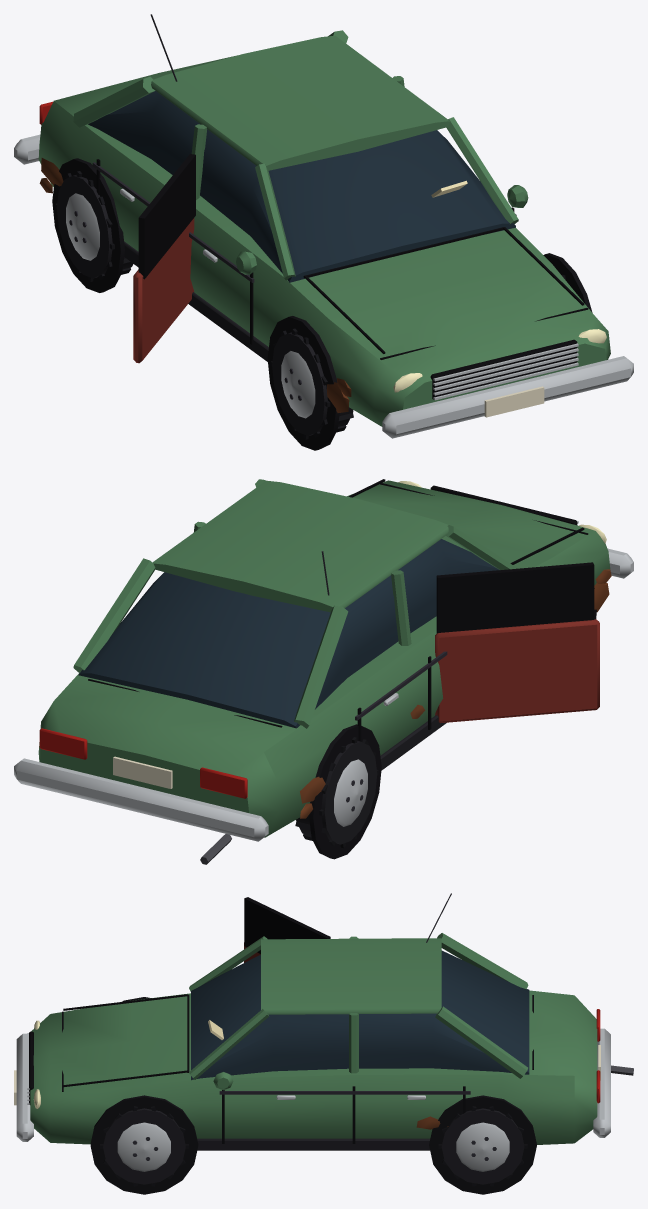
The model's file is car_parked_green.glb.
3 views of the same model, one above another, from view 1: azimuth 30°, elevation 25°; view 2: azimuth 150°, elevation 25°; view 3: azimuth 270°, elevation 25° (orthographic). The views are drawn at different scales.
Visible parts, largest first — view 1: car_parked_green; view 2: car_parked_green; view 3: car_parked_green.
Boxes of the visible parts, x1,y1,x2,y2 form: car_parked_green: (14, 14, 633, 450); car_parked_green: (14, 479, 633, 864); car_parked_green: (14, 893, 633, 1194).
Bounding box in the file's own units: 2.71 × 1.92 × 4.94.
